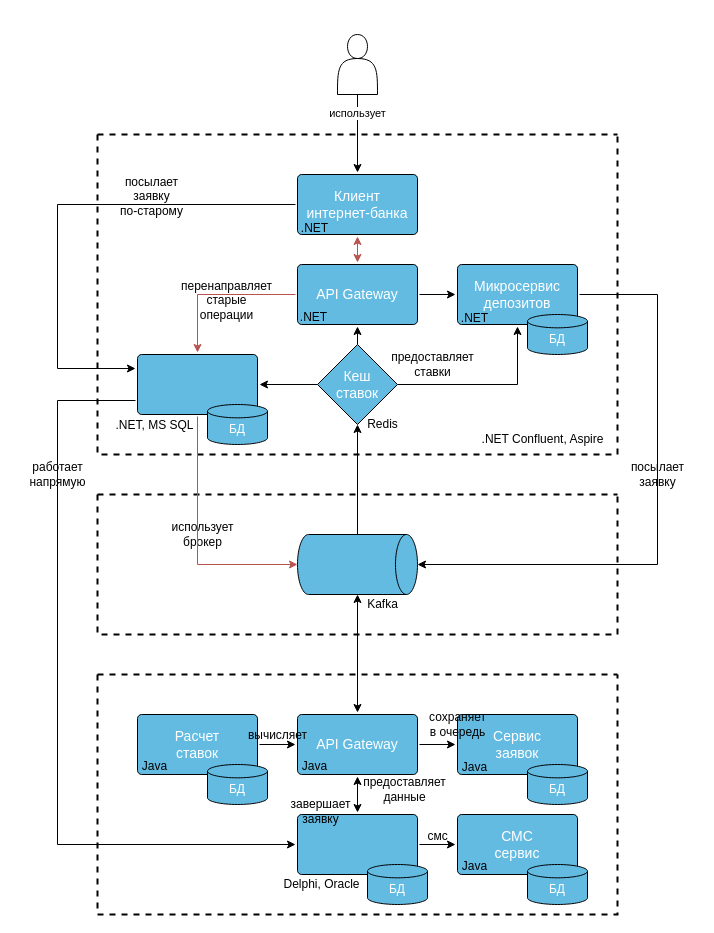
The diagram is 714 pixels wide and 933 high, and some of its shapes have lost their labels. The shapes that lost their labels are listed below. From the top down, each one's centre as x and y in pixels, then its label:
the point at 357,64: Клиент
the point at 197,384: Сервер интернет-банка
the point at 357,564: Брокер сообщений
the point at 357,844: АБС
